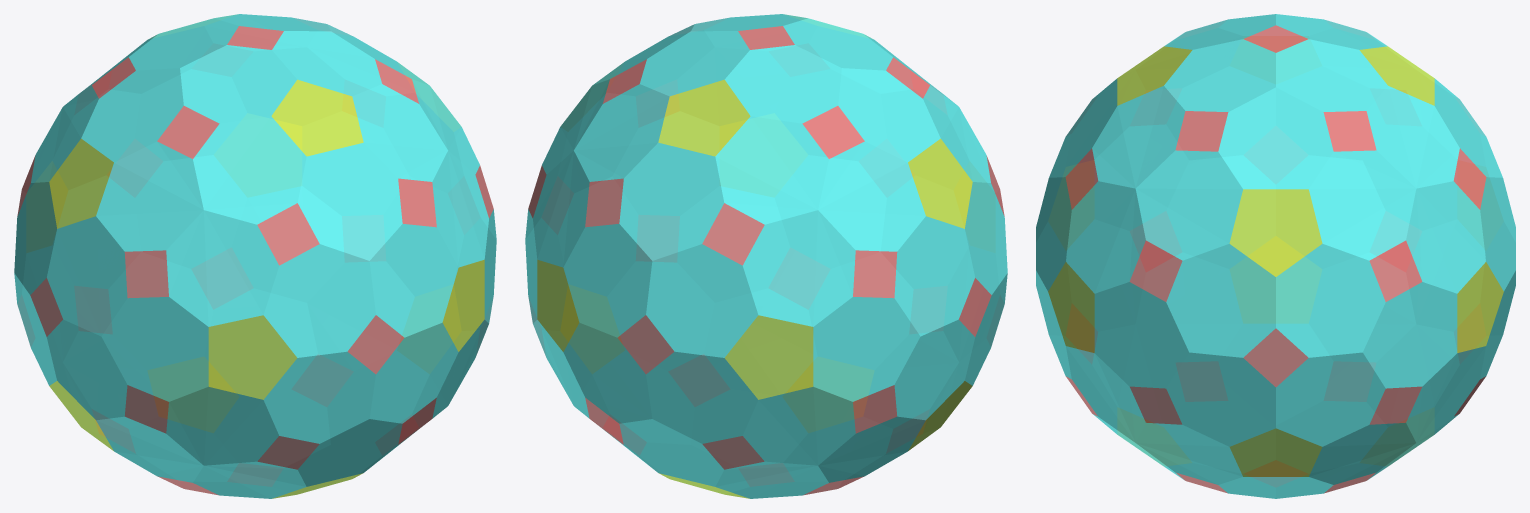
Rendered from TruncatedDeltoidalHexecontahedron3.obj.
3 renders of one model, left to right at view 1: azimuth 30°, elevation 25°; view 2: azimuth 150°, elevation 25°; view 3: azimuth 270°, elevation 25°, orthographic.
Size of the model in its own units: 1.99 by 1.99 by 1.99.
